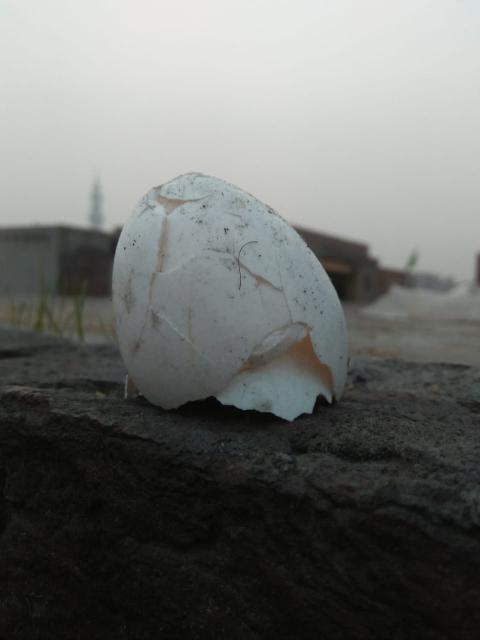Roto: (110, 170, 350, 422)
